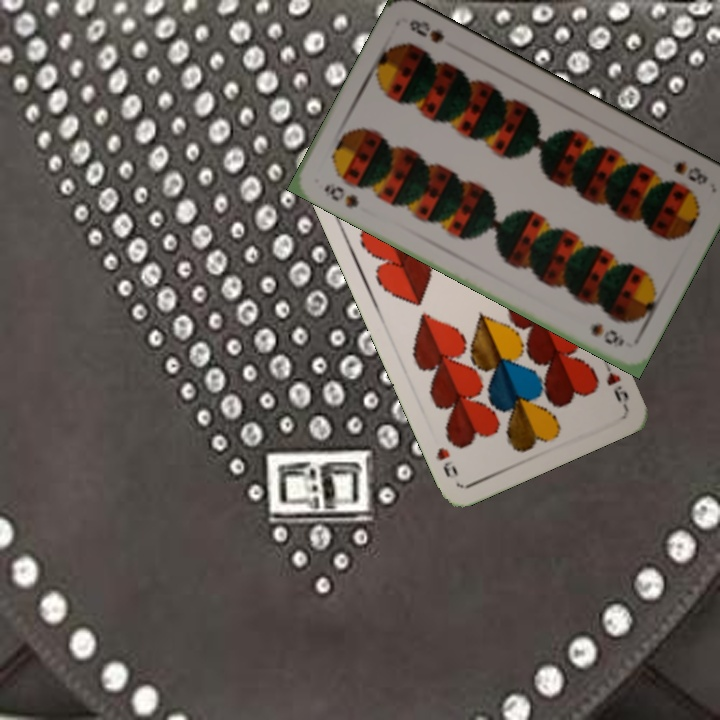H9: (598, 353, 632, 409)
S8: (320, 179, 362, 211), (669, 156, 710, 188)
